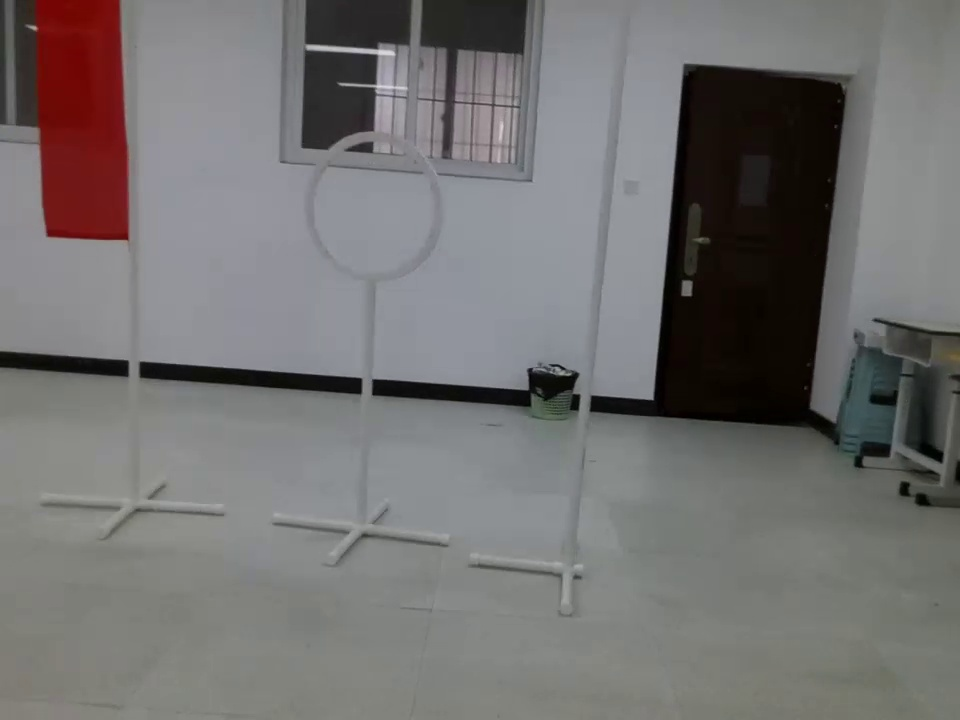gan: (560, 7, 640, 569)
qi: (32, 1, 139, 249)
quan: (290, 129, 458, 284)
